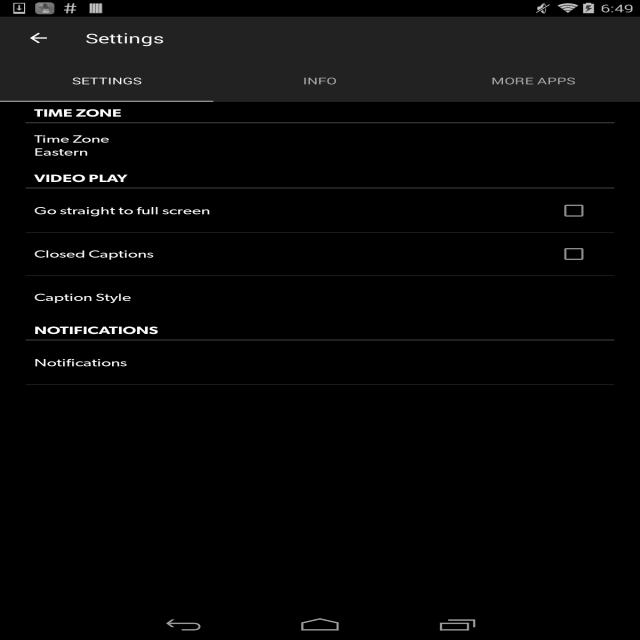CheckBox: (557, 243, 591, 265), (557, 200, 591, 221)
ImageButton: (9, 17, 68, 59)
TextView: (26, 167, 614, 189), (26, 319, 614, 341), (26, 102, 614, 123), (34, 204, 210, 217), (34, 248, 154, 260), (86, 29, 164, 47), (34, 290, 131, 304), (34, 356, 127, 369), (491, 74, 576, 87), (34, 132, 110, 146), (71, 74, 142, 87), (34, 146, 88, 158), (303, 74, 336, 87)
